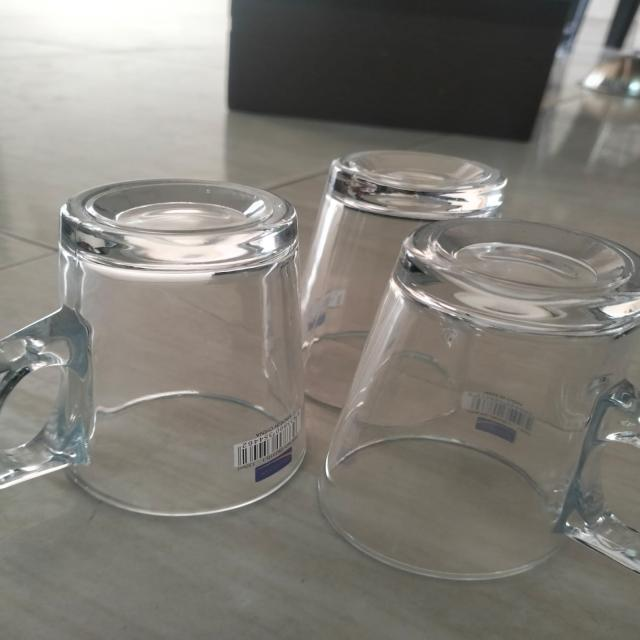glass-VX4N: (327, 221, 640, 597), (1, 178, 310, 519), (301, 154, 513, 429)
